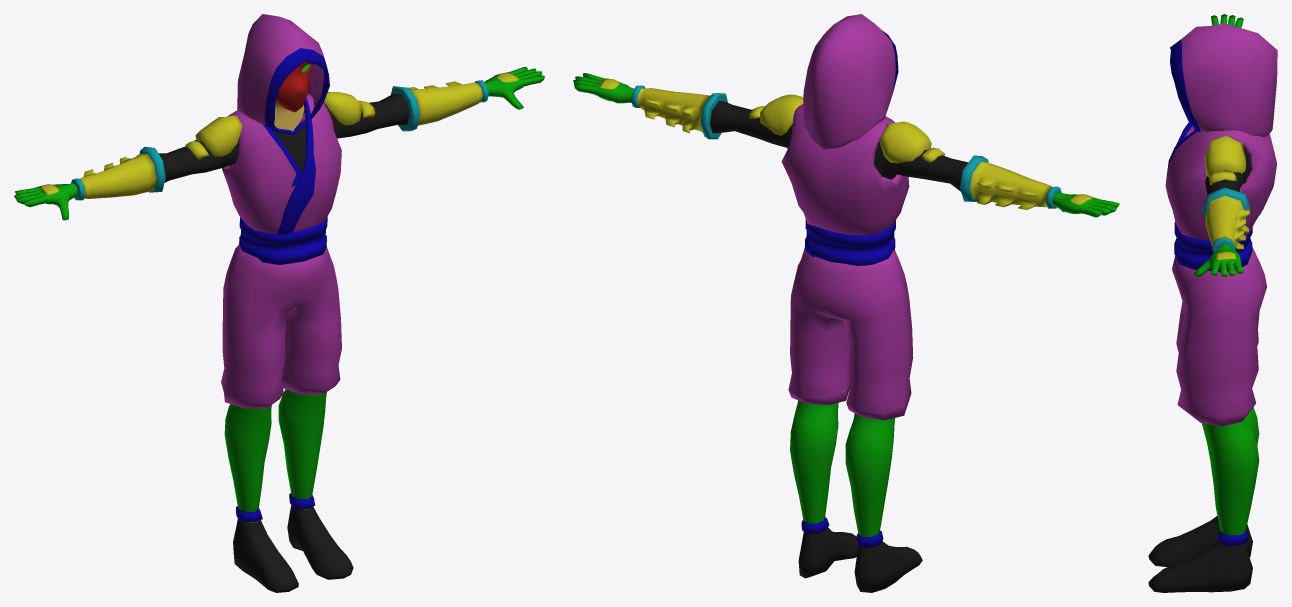
Rendered from Guerreiro.fbx.
3 views of the same model, side by side, from view 1: azimuth 30°, elevation 25°; view 2: azimuth 150°, elevation 25°; view 3: azimuth 270°, elevation 25° (orthographic). The views are drawn at different scales.
Visible parts, largest first — view 1: Guerreiro; view 2: Guerreiro; view 3: Guerreiro.
Boxes of the visible parts, left/top/right/bottom form: Guerreiro: left=14, top=14, right=544, bottom=592; Guerreiro: left=573, top=14, right=1119, bottom=592; Guerreiro: left=1148, top=14, right=1277, bottom=592.
Bounding box in the file's own units: 177 × 175 × 37.25.
